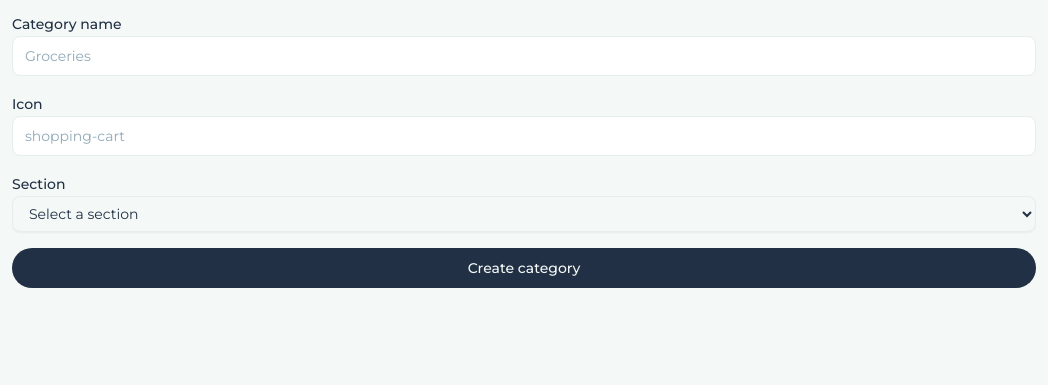
Test: categories forms and actions › validates required fields in CategoryForm
Click the button "Create category" at (524,268), box [12, 248, 1036, 288]
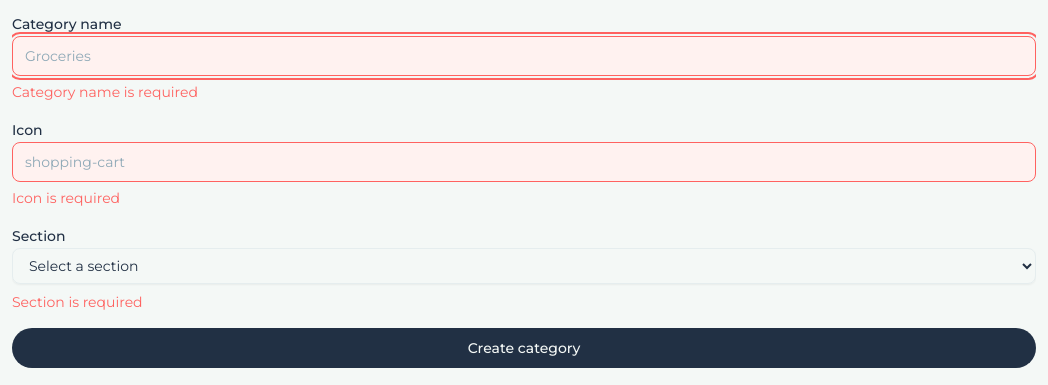
expect the text "Category name is required" is shown: met, box [12, 83, 198, 101]
expect the text "Icon is required" is shown: met, box [12, 189, 120, 207]
expect the text "Section is required" is shown: met, box [12, 293, 143, 311]
